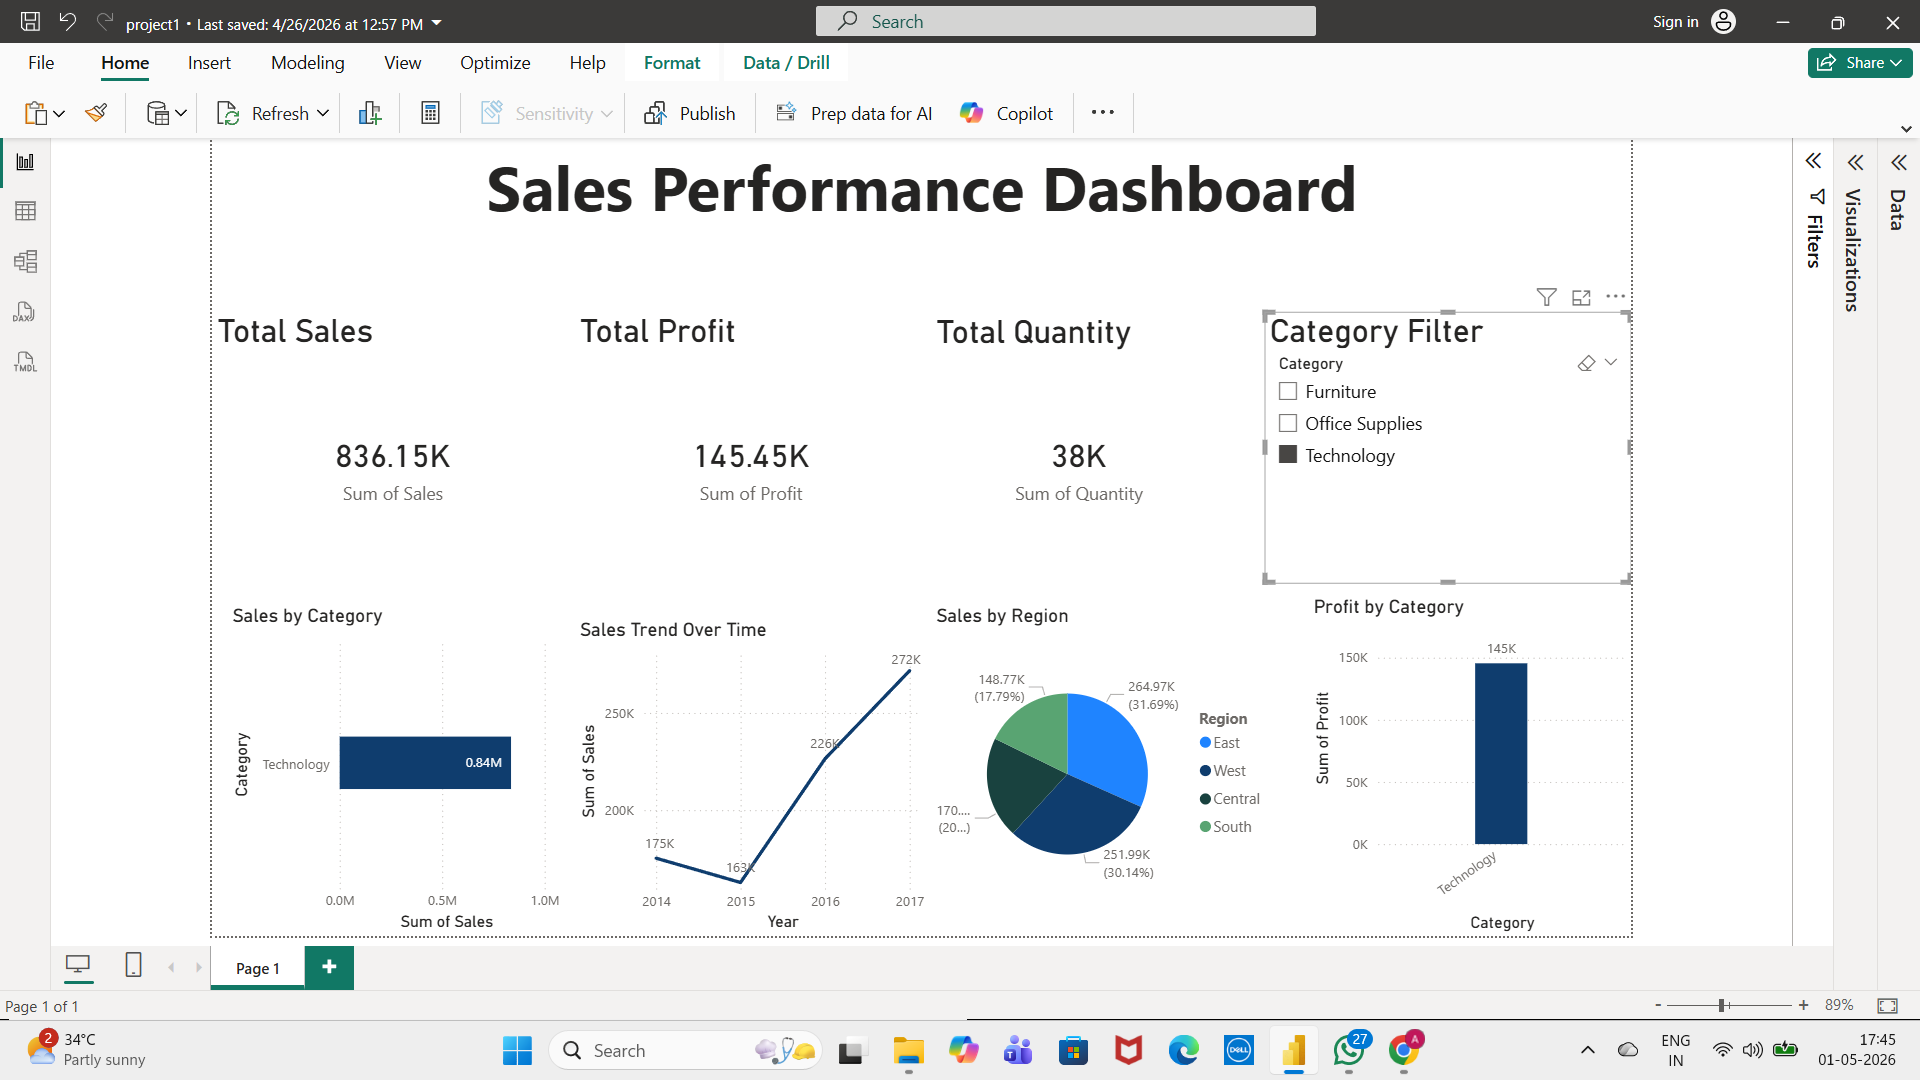

What the dashboard file says about the page in this screenshot:
{"tool":"powerbi","page":{"name":"Page 1","canvas":[1280,720],"ordinal":0},"visuals":[{"type":"card","title":"Total Sales","fields":{"Values":["Sum(Orders.Sales)"]},"box":[0,156.7,326.9,245.7],"z":0},{"type":"card","title":"Total Profit","fields":{"Values":["Sum(Orders.Profit)"]},"box":[326.9,156.7,319,245.7],"z":1000},{"type":"card","title":"Total Quantity","fields":{"Values":["Sum(Orders$FilterDatabase.Quantity)"]},"box":[648,158,267.8,243.7],"z":2000},{"type":"clusteredBarChart","title":"Sales by Category","fields":{"Category":["Orders.Category"],"Y":["Sum(Orders.Sales)"]},"box":[13.5,420.7,314.3,299.6],"z":3000},{"type":"lineChart","title":"Sales Trend Over Time","fields":{"Category":["Orders.Order Date.Variation.Date Hierarchy.Year","Orders.Order Date.Variation.Date Hierarchy.Quarter","Orders.Order Date.Variation.Date Hierarchy.Month","Orders.Order Date.Variation.Date Hierarchy.Day"],"Y":["Sum(Orders.Sales)"]},"box":[326.5,432.9,320.4,287.4],"z":4000},{"type":"pieChart","title":"Sales by Region","fields":{"Category":["Orders.Region"],"Y":["Sum(Orders.Sales)"]},"box":[648.1,420.7,311.8,287.4],"z":5000},{"type":"slicer","title":"Category Filter","fields":{"Values":["Orders.Category"]},"box":[949,156.7,331.4,245.7],"z":6000},{"type":"textbox","box":[0,0,1280.4,109.3],"z":7000},{"type":"clusteredColumnChart","title":"Profit by Category","fields":{"Category":["Orders.Category"],"Y":["Sum(Orders.Profit)"]},"box":[988,412.1,292.3,308.2],"z":8000}]}

Visuals, with their boxes on the page's 1280x720 design canvas (x1, y1, x2, y2). These are canvas units, not pixel positions in the 1920x1080 screenshot, which may show the page scaled, cropped or inside an application window:
"Total Sales" card: box(0, 157, 327, 402)
"Total Profit" card: box(327, 157, 646, 402)
"Total Quantity" card: box(648, 158, 916, 402)
"Sales by Category" clusteredBarChart: box(14, 421, 328, 720)
"Sales Trend Over Time" lineChart: box(326, 433, 647, 720)
"Sales by Region" pieChart: box(648, 421, 960, 708)
"Category Filter" slicer: box(949, 157, 1280, 402)
textbox: box(0, 0, 1280, 109)
"Profit by Category" clusteredColumnChart: box(988, 412, 1280, 720)
